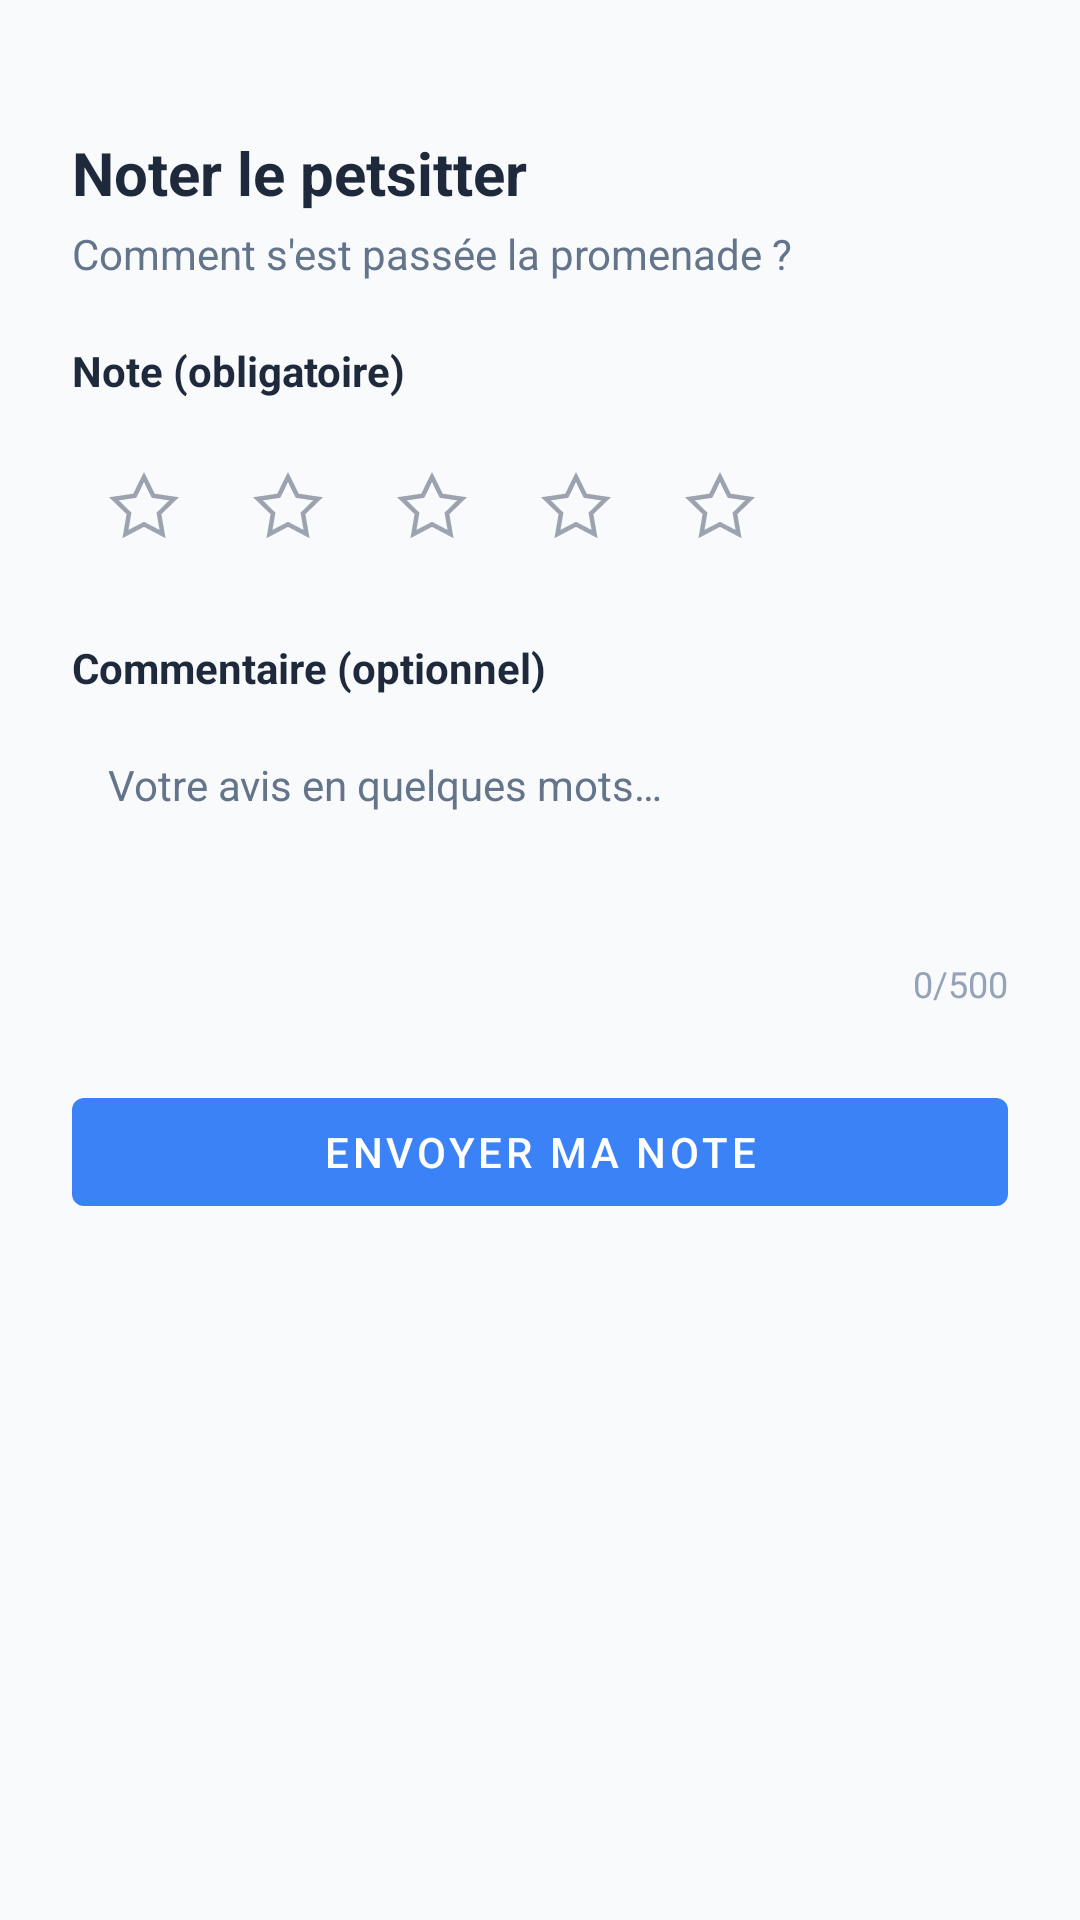

Screen size 1080w x 1920h. Icon name, then its center in pixels as [x,y]:
Étoile: [144,505], [288,505], [432,505], [576,505], [720,505]
